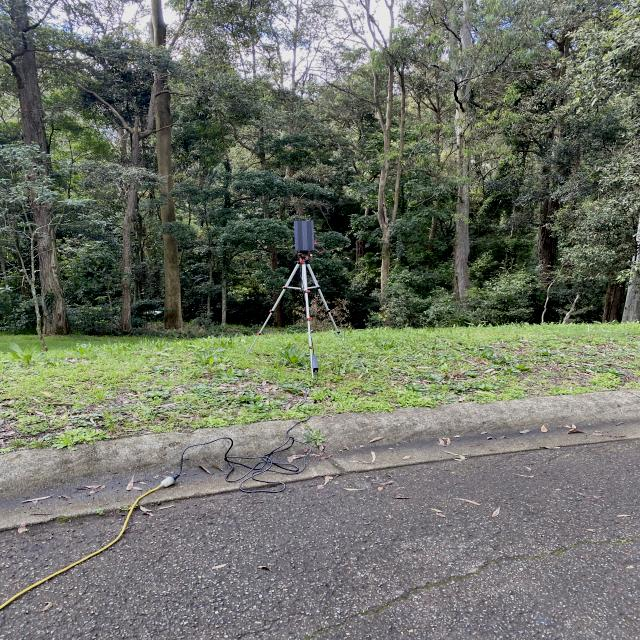matrix: (292, 220, 317, 252)
